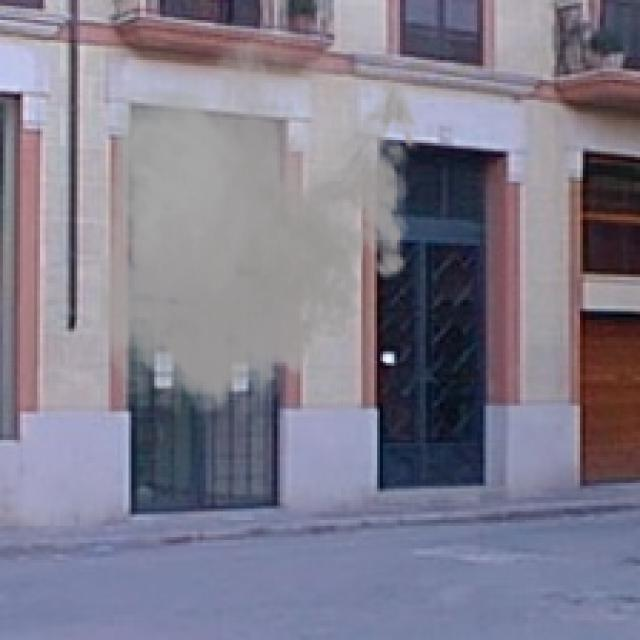smoke: (80, 14, 429, 429)
